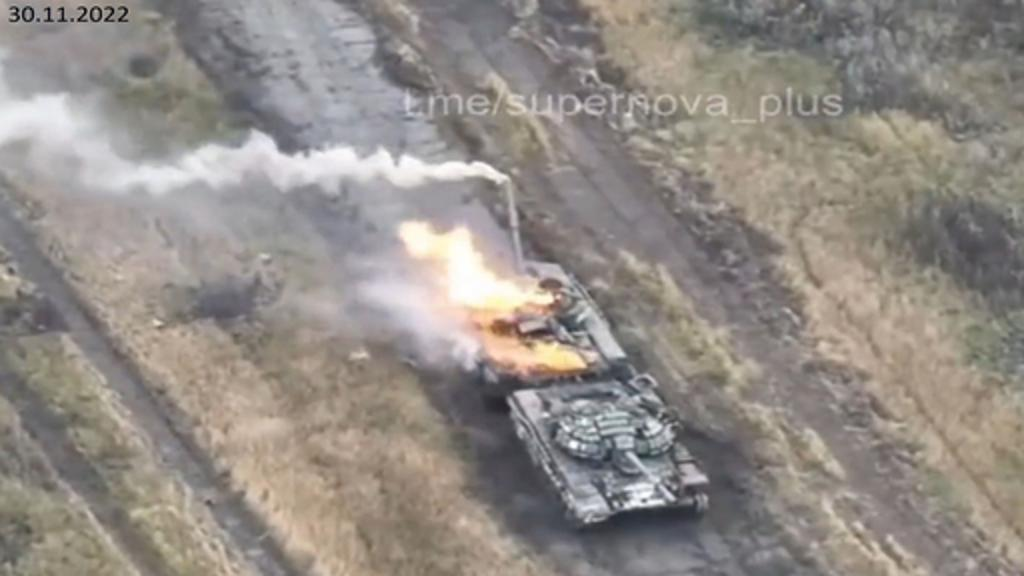APC-IFV: (450, 238, 658, 406)
TANK: (472, 360, 740, 538)
